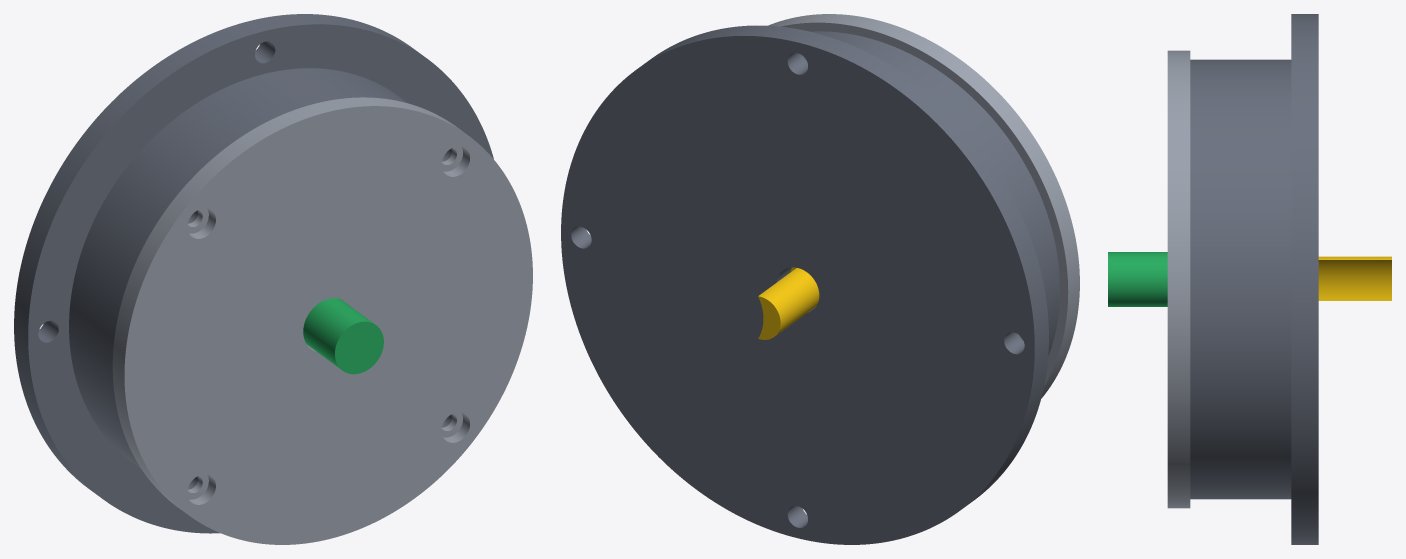
Rendered from planetary-gearbox-cad.glb.
3 views of the same model, side by side, from view 1: azimuth 30°, elevation 25°; view 2: azimuth 150°, elevation 25°; view 3: azimuth 270°, elevation 25° (orthographic). The views are drawn at different scales.
Visible parts, largest first — view 1: Cover, Housing, Carrier; view 2: Housing, Cover, SunGear; view 3: Housing, Cover, SunGear, Carrier.
Boxes of the visible parts, box(x1,y1,x2,y2) form: Cover: box(112, 97, 532, 544); Housing: box(14, 14, 493, 533); Carrier: box(303, 298, 383, 374); Housing: box(561, 25, 1059, 544); Cover: box(768, 14, 1079, 398); SunGear: box(758, 267, 819, 339); Housing: box(1190, 14, 1318, 544); Cover: box(1167, 50, 1190, 508); SunGear: box(1318, 256, 1391, 300); Carrier: box(1108, 252, 1167, 306).
Size of the model in its own units: 116 by 116 by 62.
